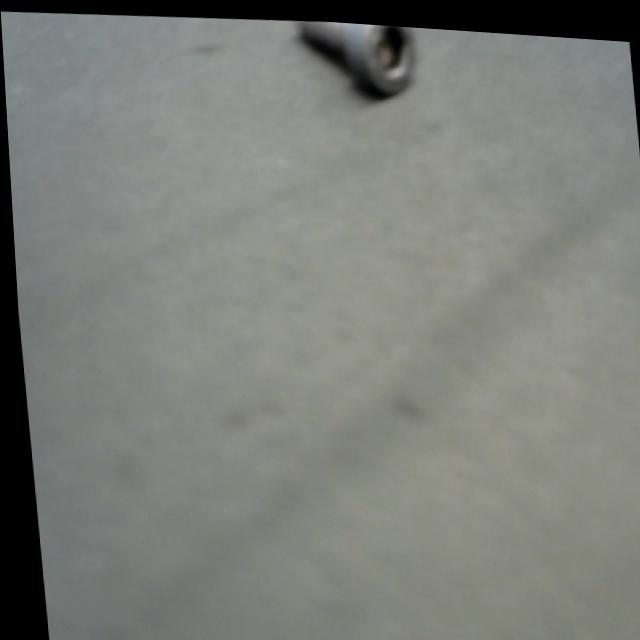SocketHeadCapScrew: (287, 15, 442, 108)
